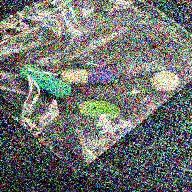러키펜정: (150, 71, 179, 92)
씨엠지세파클러캡슐: (60, 68, 114, 85)
에르도캡슐: (19, 65, 73, 99)
휴티렌정: (78, 100, 121, 120)
